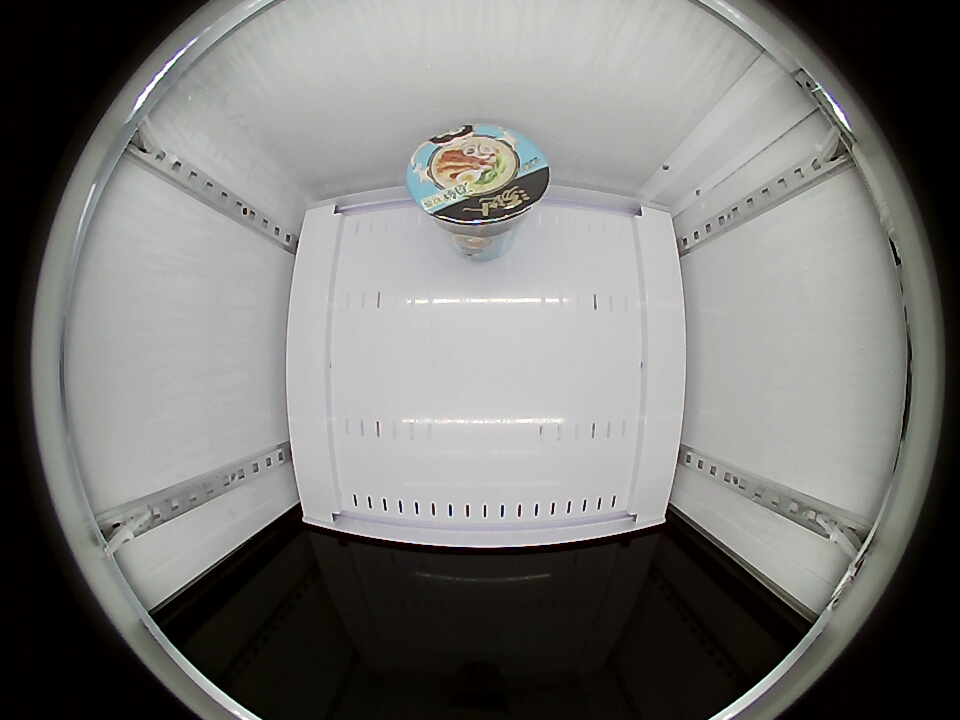tangdaren3: (407, 124, 550, 239)
